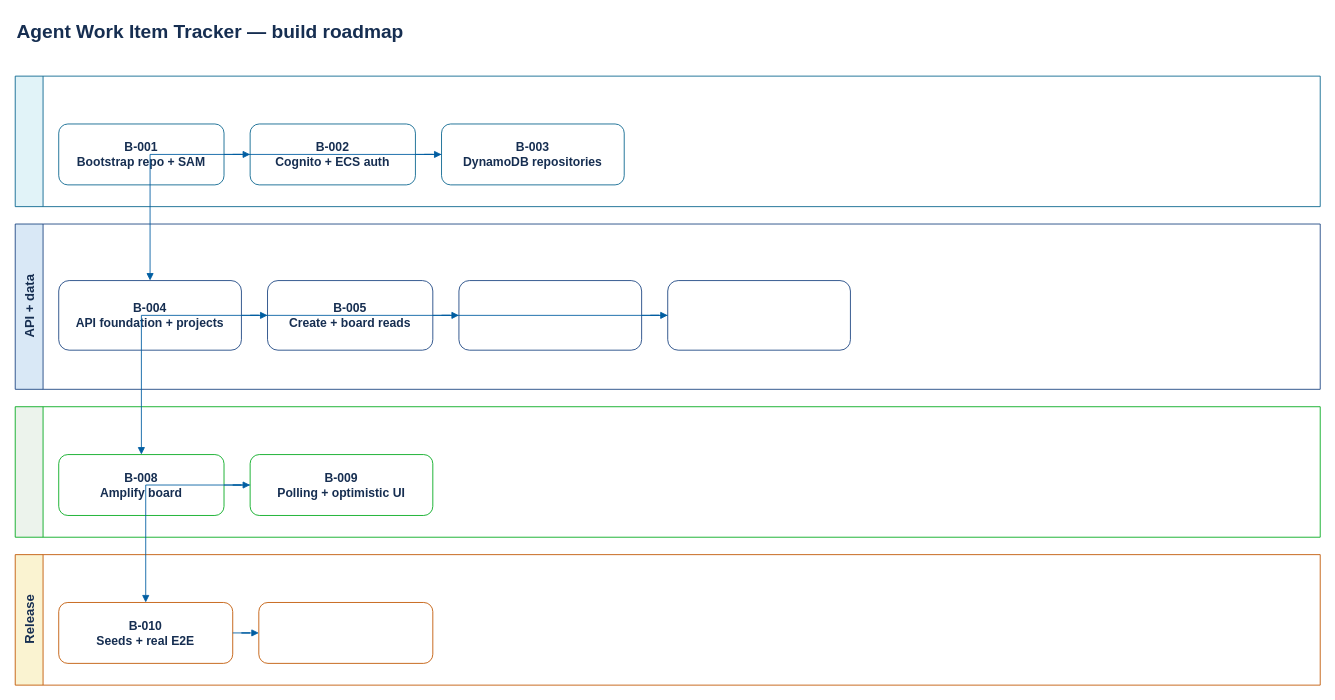
Some shapes in this 1335 by 700 pixel diagram are drawn without their labels. The shapes that lost their labels are listed below. From the top down, each one's box as (x1, y1, x2, y2) in pixels, then its label:
(14, 75, 1320, 207): Foundation
(458, 280, 642, 350): B-006 Claims + status movement
(667, 280, 850, 350): B-007 Activity + close/reopen
(14, 406, 1320, 537): Web experience
(258, 602, 433, 663): B-011 Domain + hardening
